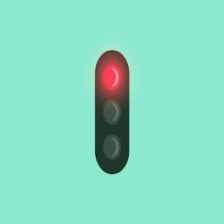semaforo: (94, 49, 130, 173)
